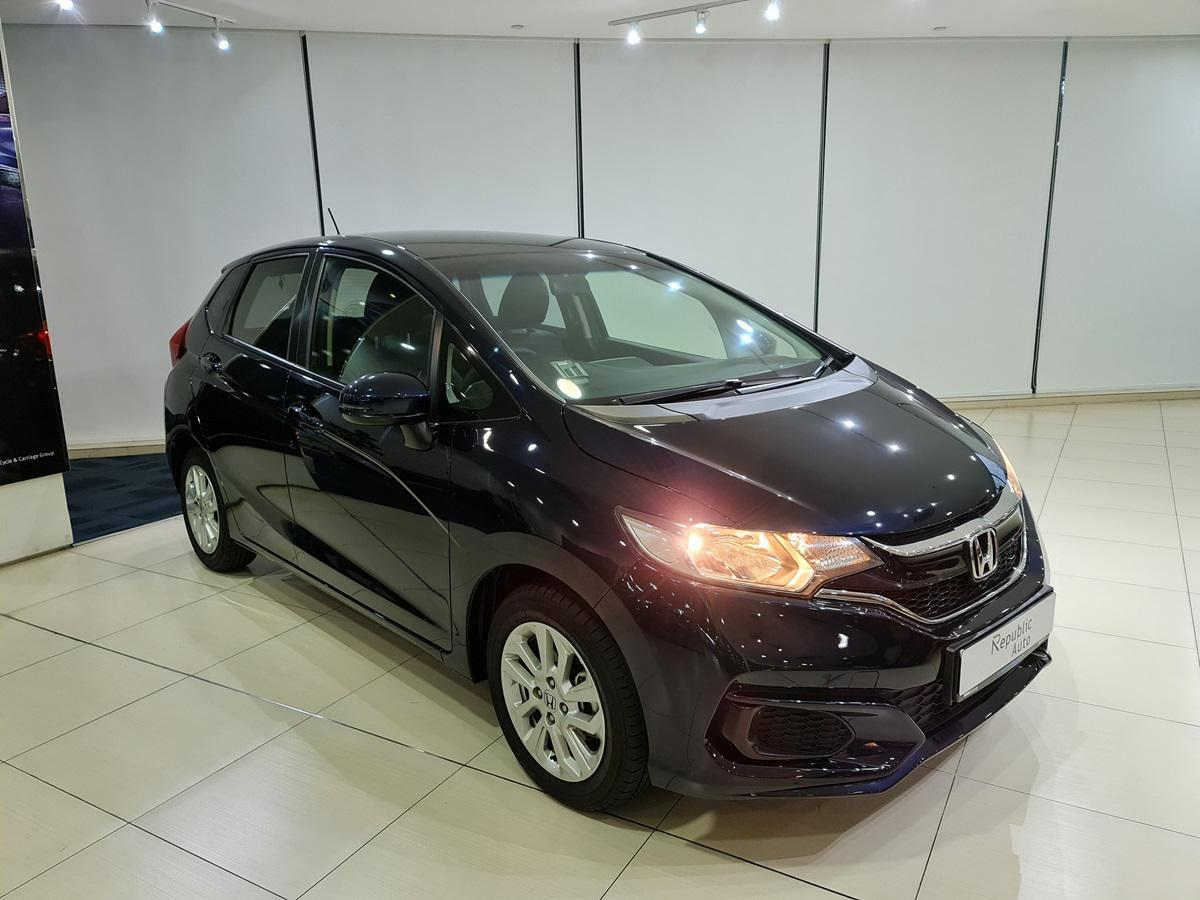Hatchback: (153, 218, 1080, 839)
